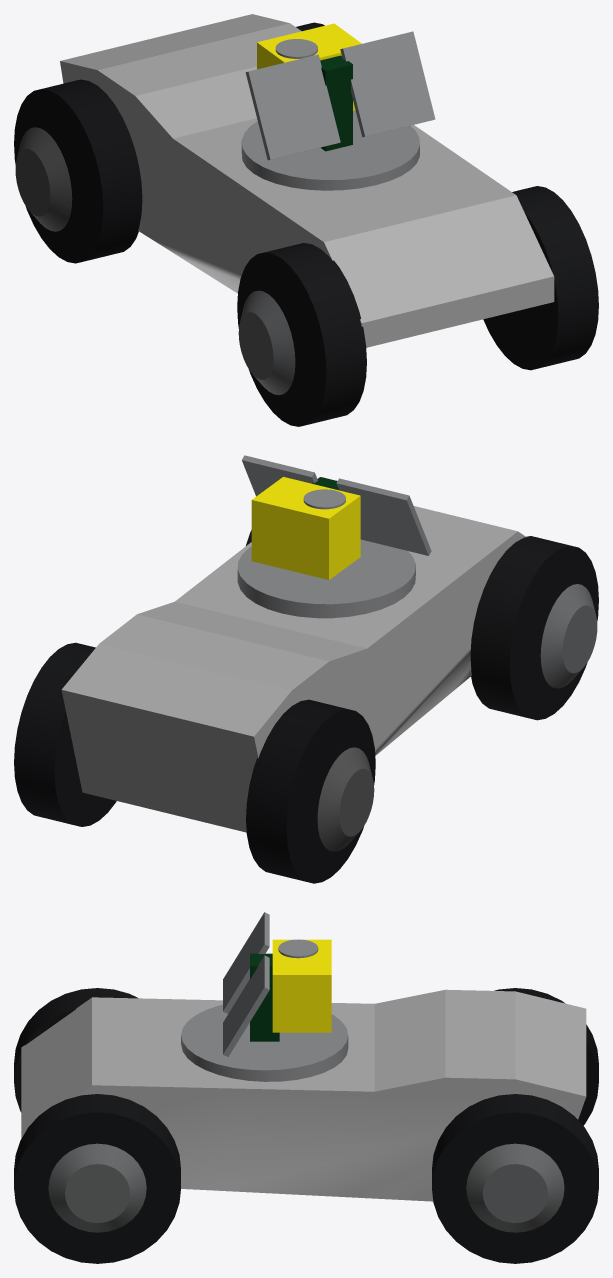
The model's file is Robot.fbx.
The picture shows the model from 3 angles, top to bottom: view 1: azimuth 30°, elevation 25°; view 2: azimuth 150°, elevation 25°; view 3: azimuth 270°, elevation 25°; orthographic projection. The views are drawn at different scales.
Parts seen in each view (by area): view 1: Cube, Cylinder.001, Cylinder.002, Cylinder.005, Cylinder, Cube.004, Cube.003, Cylinder.008, Cylinder.009, Cube.001, Cube.002, Cylinder.013; view 2: Cube, Cylinder.002, Cylinder.001, Cylinder.004, Cylinder, Cube.002, Cylinder.009, Cylinder.008, Cube.004, Cube.003, Cylinder.013; view 3: Cube, Cylinder.004, Cylinder.005, Cylinder, Cylinder.006, Cylinder.007, Cube.002, Cylinder.001, Cube.003, Cube.004, Cylinder.002, Cube.001 (+1 smaller).
Part boxes in pixels (box(x1,y1,x2,y2)): Cube: box(60, 14, 554, 347); Cylinder.001: box(237, 243, 366, 426); Cylinder.002: box(14, 79, 142, 263); Cylinder.005: box(483, 186, 598, 370); Cylinder: box(241, 110, 419, 190); Cube.004: box(245, 54, 340, 160); Cube.003: box(340, 31, 435, 137); Cylinder.008: box(15, 127, 72, 231); Cylinder.009: box(238, 290, 295, 395); Cube.001: box(320, 55, 352, 151); Cube.002: box(257, 23, 361, 110); Cylinder.013: box(275, 39, 317, 58); Cube: box(61, 506, 526, 832); Cylinder.002: box(246, 699, 375, 883); Cylinder.001: box(470, 536, 598, 720); Cylinder.004: box(14, 642, 116, 826); Cylinder: box(237, 539, 415, 618); Cube.002: box(251, 477, 360, 579); Cylinder.009: box(540, 584, 597, 688); Cylinder.008: box(317, 747, 374, 851); Cube.004: box(336, 478, 431, 555); Cube.003: box(242, 455, 317, 496); Cylinder.013: box(303, 489, 345, 509); Cube: box(21, 989, 586, 1201); Cylinder.004: box(432, 1094, 598, 1263); Cylinder.005: box(14, 1094, 180, 1263); Cylinder: box(181, 1004, 348, 1081); Cylinder.006: box(466, 1143, 564, 1232); Cylinder.007: box(48, 1143, 146, 1232); Cube.002: box(272, 939, 331, 1032); Cylinder.001: box(14, 988, 138, 1112); Cube.003: box(223, 955, 269, 1056); Cube.004: box(223, 912, 269, 1013); Cylinder.002: box(494, 988, 598, 1125); Cube.001: box(250, 953, 279, 1041).
Size of the model in its own units: 401 by 334 by 700.
